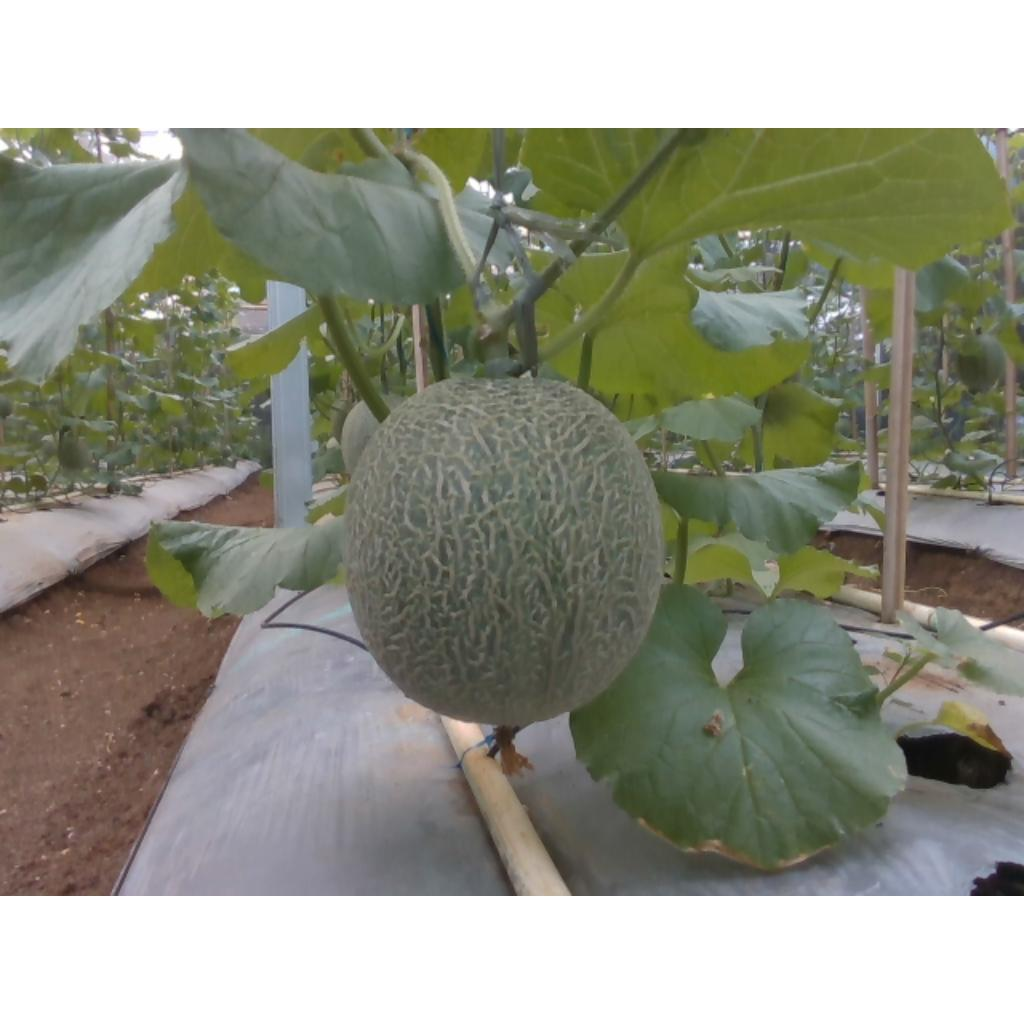melon: (344, 378, 664, 726)
